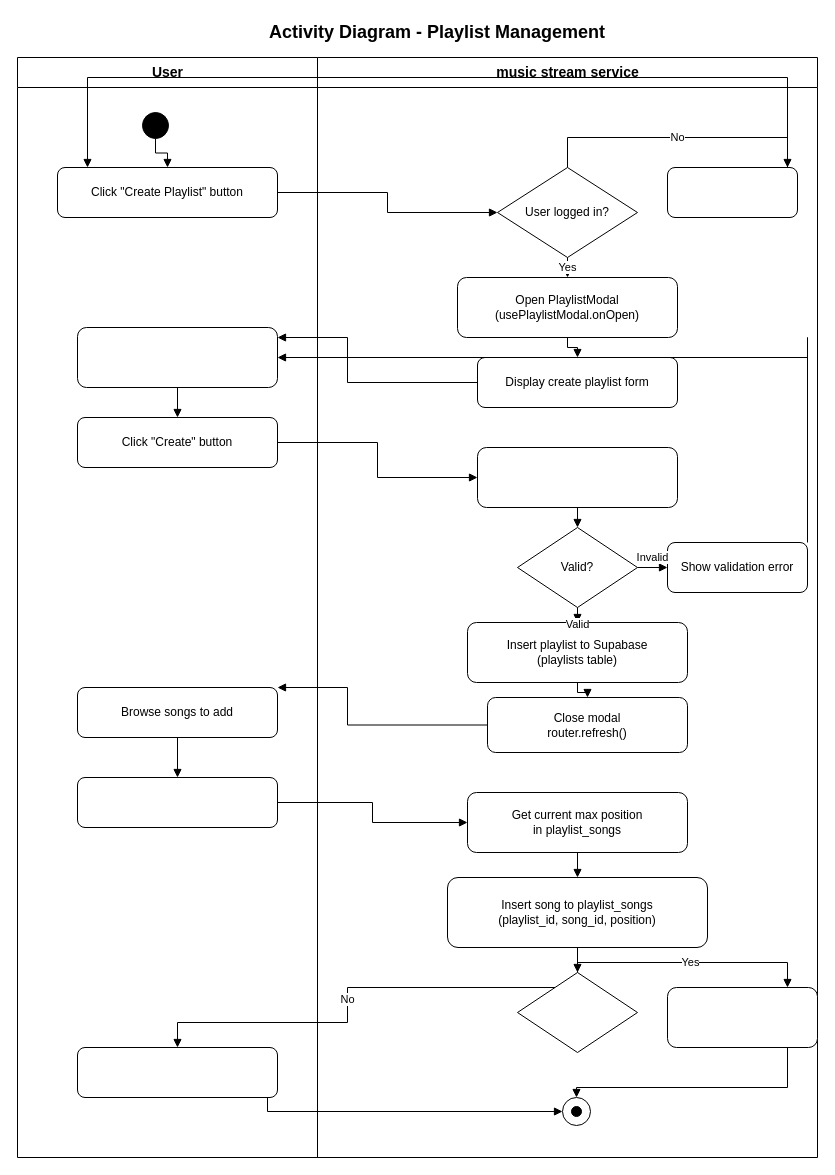
Some shapes in this 835 by 1175 pixel diagram are drawn without their labels. Here are the shapes that lost their labels. From the top down, the box of each, then its label:
(666, 166, 798, 218): Show Auth Modal
(76, 326, 278, 388): Enter playlist name & description
(476, 446, 678, 508): Validate input (react-hook-form)
(76, 776, 278, 828): Click "Add to Playlist" button
(516, 972, 638, 1052): Already exists?
(666, 986, 818, 1048): Show "Song already in playlist!" error
(76, 1046, 278, 1098): View playlist with songs
